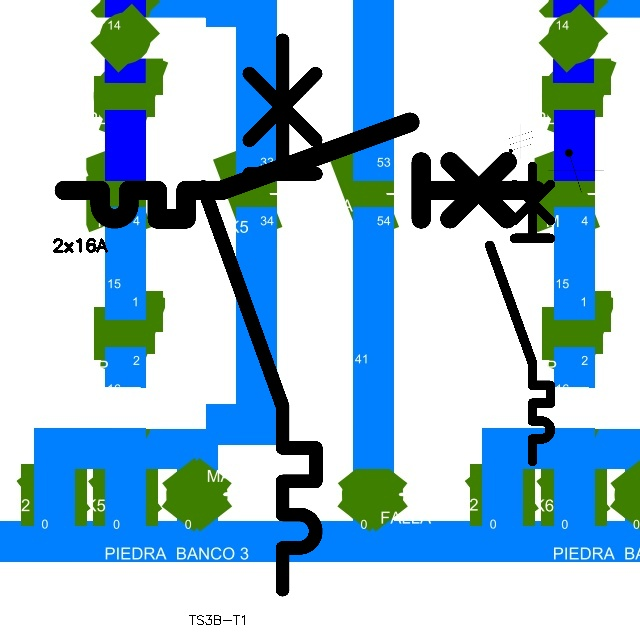interruptor_termomagnetico: (189, 26, 330, 604), (52, 110, 548, 231), (482, 159, 558, 469)
